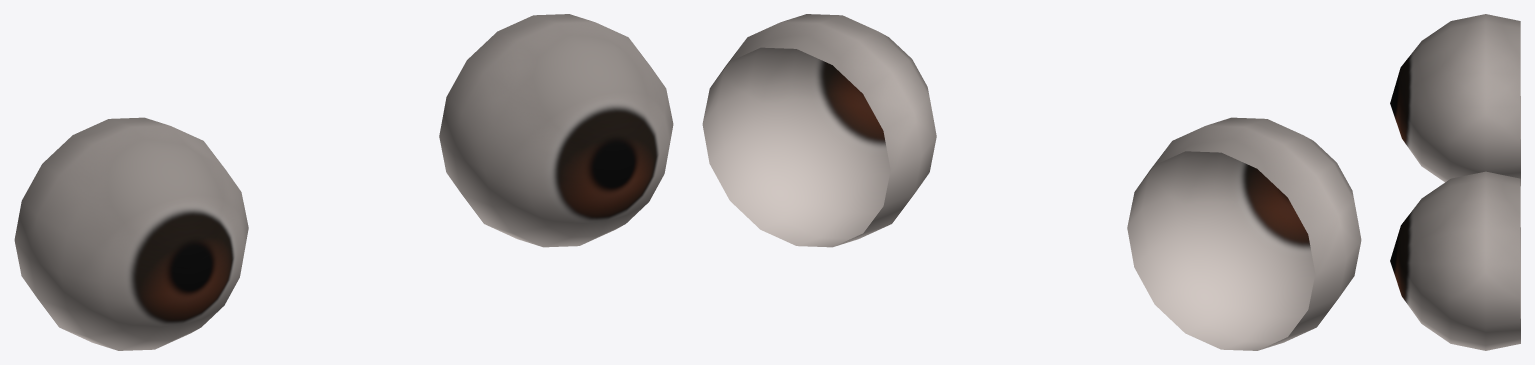
File: eyes_2.glb
3 views of the same model, side by side, from view 1: azimuth 30°, elevation 25°; view 2: azimuth 150°, elevation 25°; view 3: azimuth 270°, elevation 25° (orthographic). The views are drawn at different scales.
Visible parts, largest first — view 1: eyes_low; view 2: eyes_low; view 3: eyes_low.
Boxes of the visible parts, x1,y1,x2,y2 form: eyes_low: (14, 14, 673, 350); eyes_low: (702, 14, 1361, 350); eyes_low: (1390, 14, 1520, 350).
Size of the model in its own units: 0.3282 by 0.1068 by 0.0778.
Materials: 1 (1 with a texture image).
